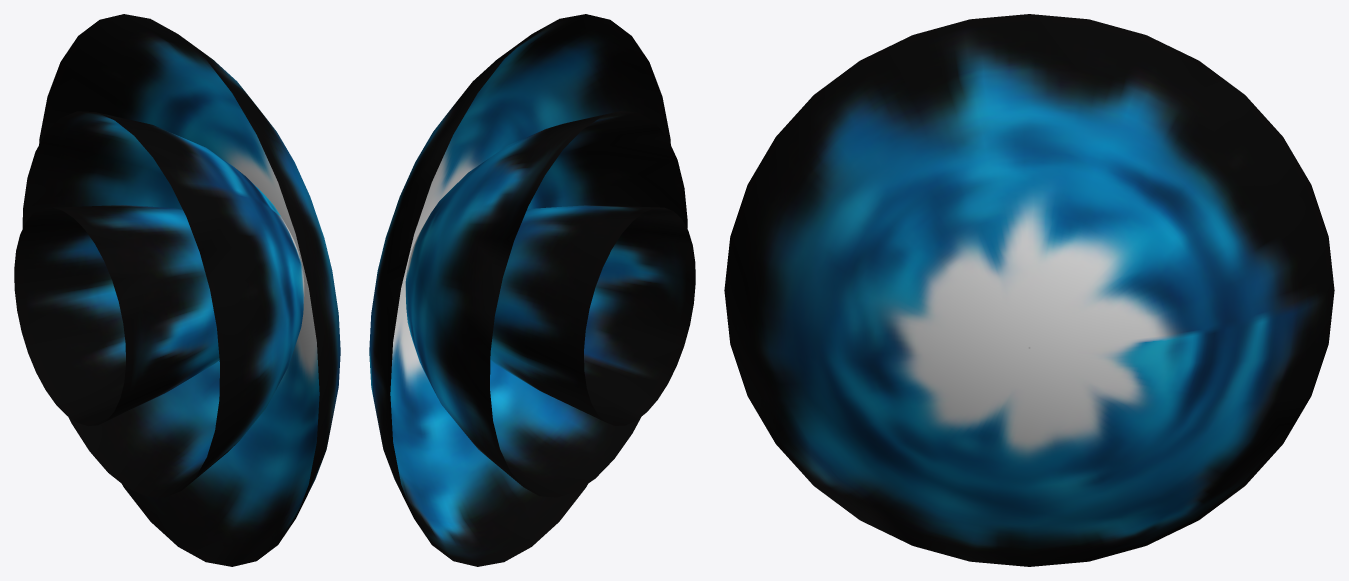
The model's file is Akaza_Fist2.fbx.
3 views of the same model, side by side, from view 1: azimuth 30°, elevation 25°; view 2: azimuth 150°, elevation 25°; view 3: azimuth 270°, elevation 25° (orthographic). The views are drawn at different scales.
Parts seen in each view (by area): view 1: SM_e_Plc_P1012_Fist003; view 2: SM_e_Plc_P1012_Fist003; view 3: SM_e_Plc_P1012_Fist003.
Boxes of the visible parts, x1=… form: SM_e_Plc_P1012_Fist003: x1=14, y1=14, x2=340, y2=566; SM_e_Plc_P1012_Fist003: x1=369, y1=14, x2=695, y2=566; SM_e_Plc_P1012_Fist003: x1=724, y1=14, x2=1334, y2=566.
Size of the model in its own units: 44.15 by 99.59 by 99.59.
